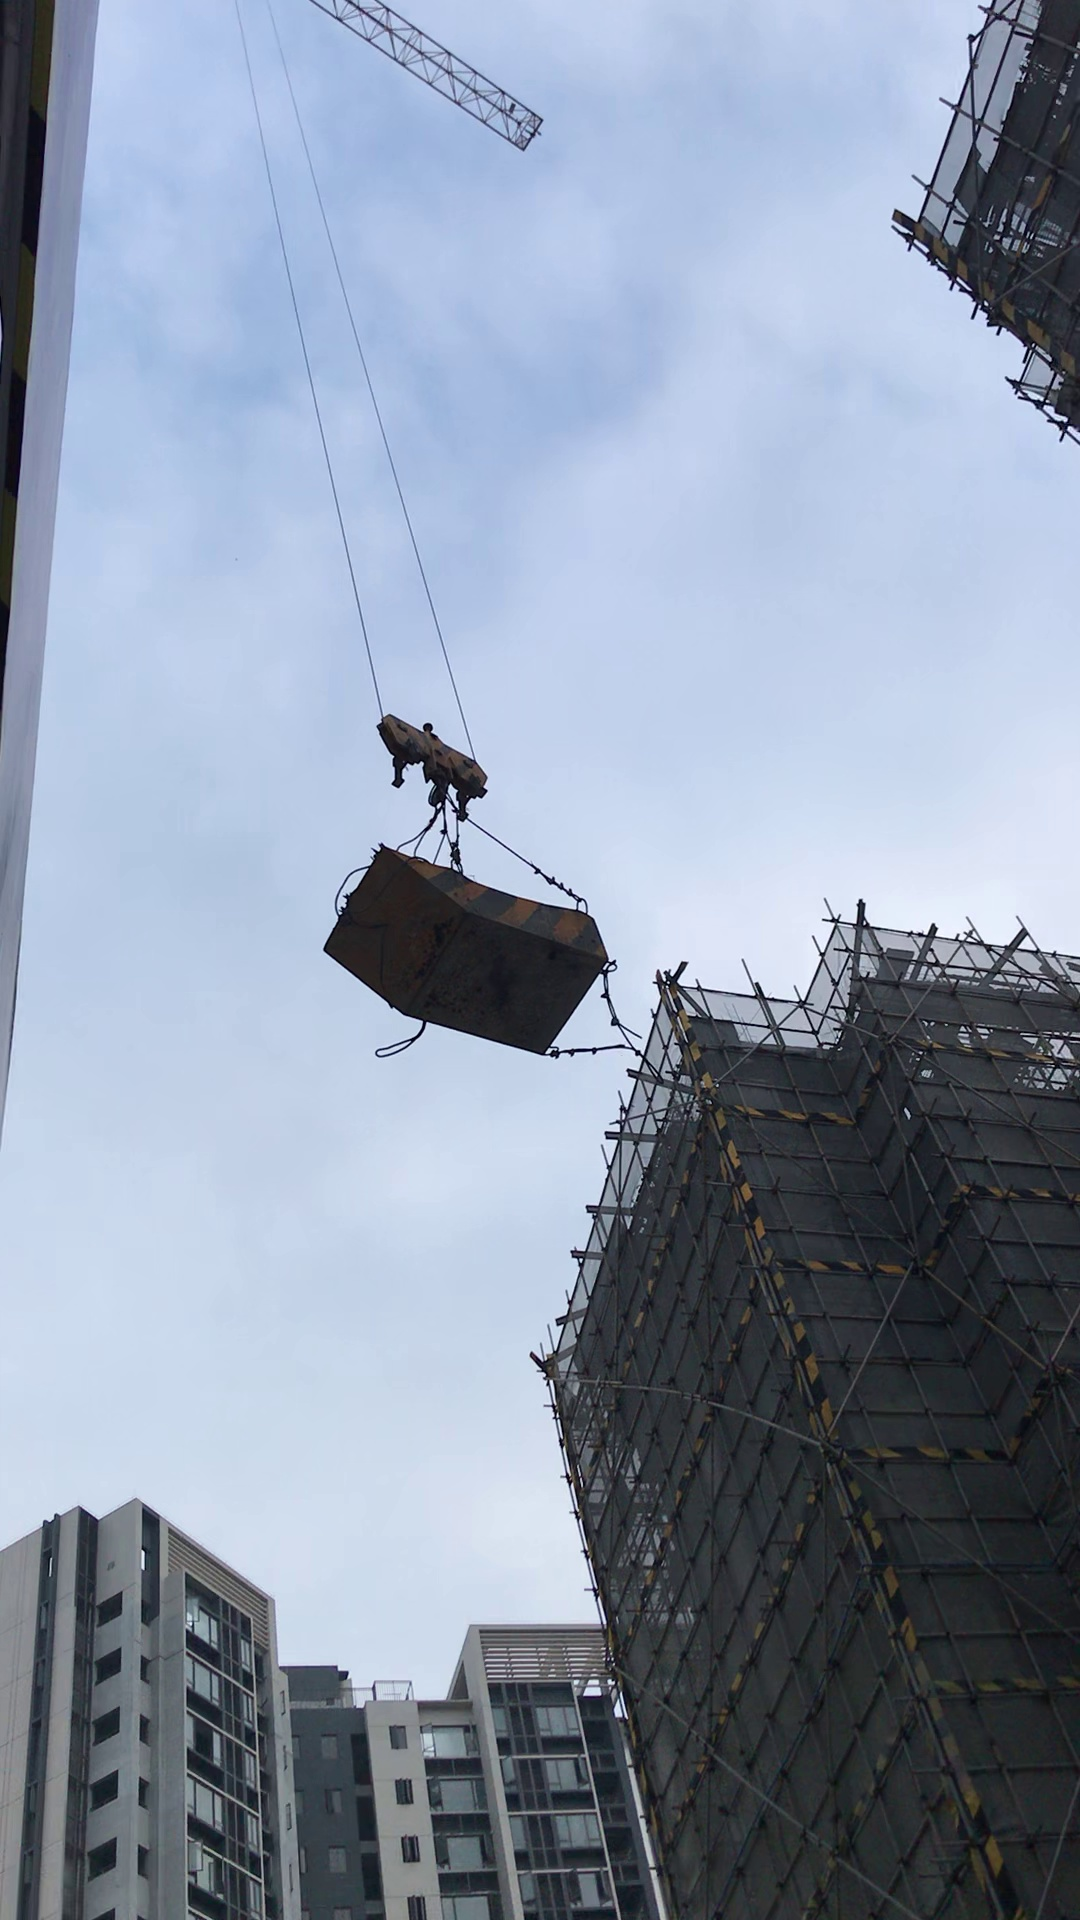hook: (375, 713, 491, 818)
